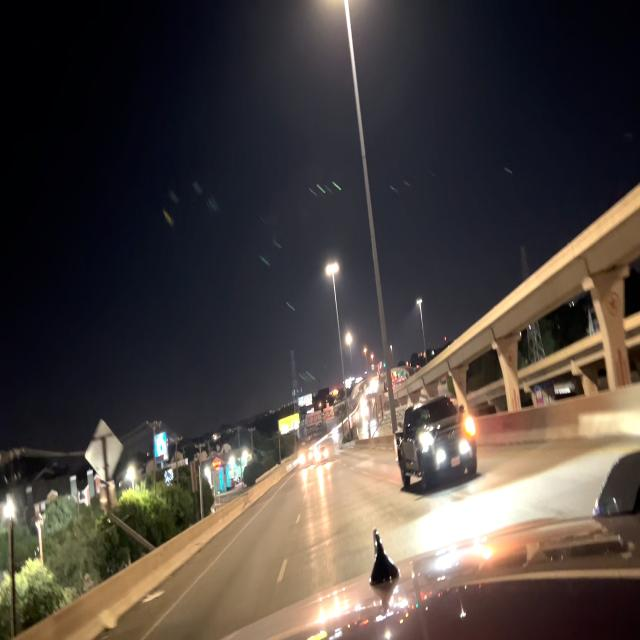back-of-sign: (85, 418, 124, 484), (303, 405, 336, 429), (374, 386, 388, 417)
